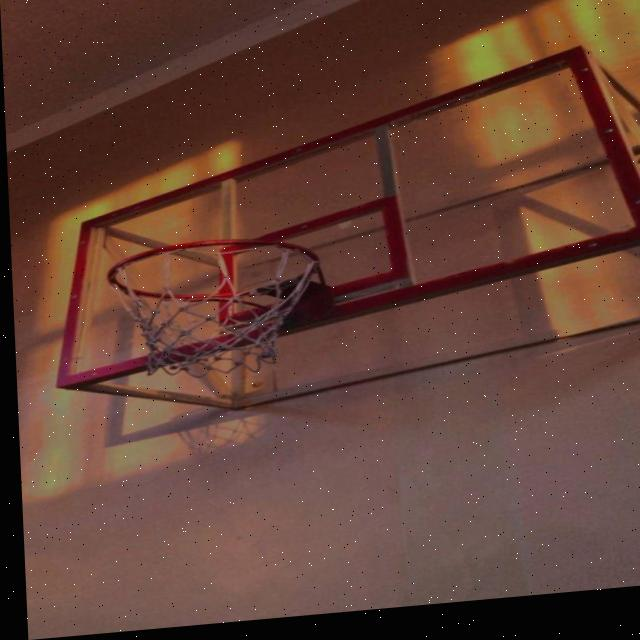hoop: (98, 230, 338, 408)
